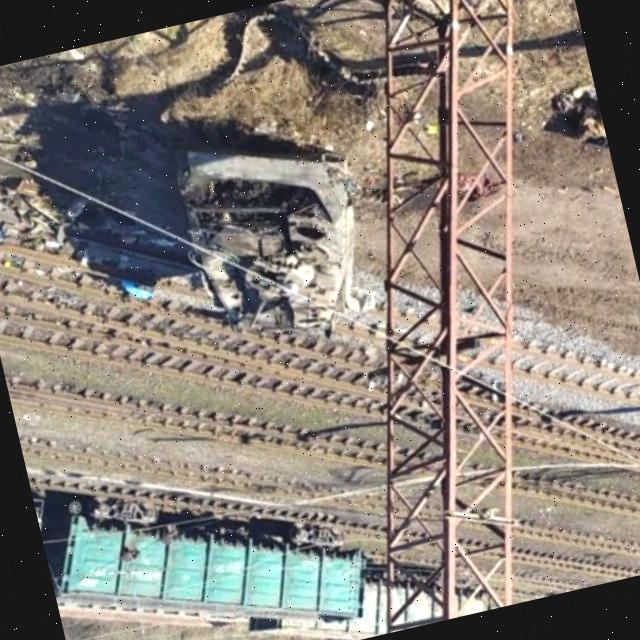Destroyed: (166, 101, 378, 361)
